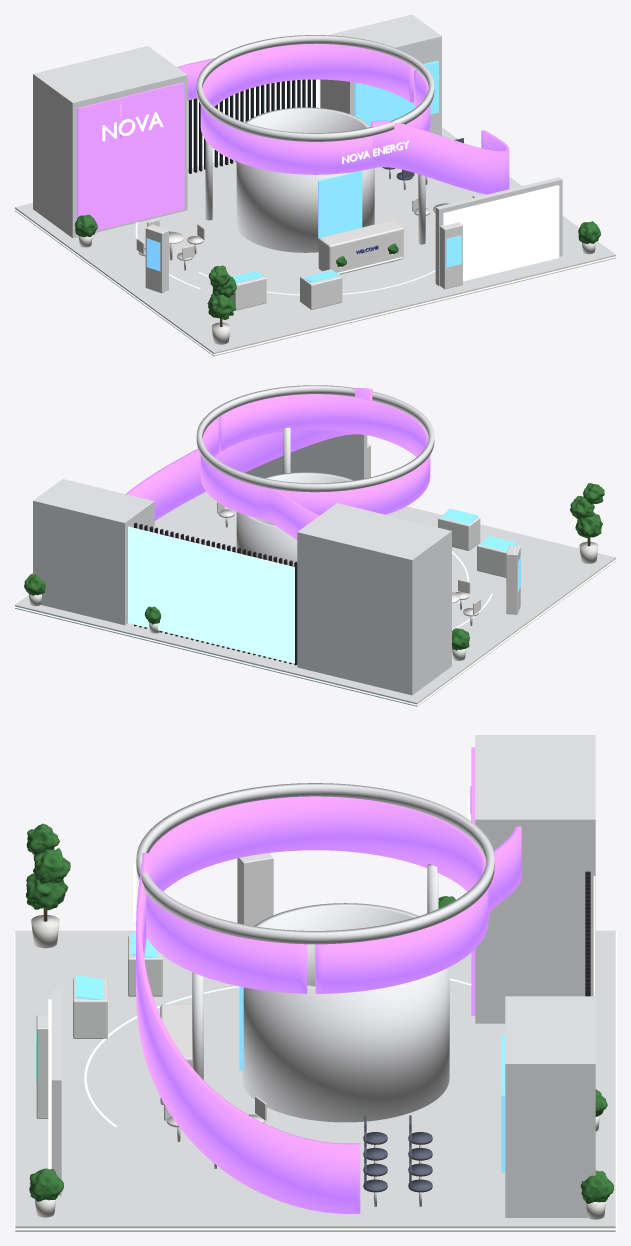
Rendered from nova_tech_pavilion.glb.
3 renders of one model, top to bottom at view 1: azimuth 30°, elevation 25°; view 2: azimuth 150°, elevation 25°; view 3: azimuth 270°, elevation 25°, orthographic. The views are drawn at different scales.
Parts seen in each view (by area): view 1: Platform, HeroRing, StoreBlockLED, StoreBlock, CoreDrum, BacklitWall, RibbonSweepRight, RingCap, StageBlock, Reception_body, CoreScreen, StageLED (+14 smaller); view 2: StoreBlock, Platform, BackSlats_backlight, HeroRing, StageBlock, RibbonSweepRight, RingCap, BacklitWall_frame, CoreDrum, RibbonSweepBack, Touch-2.4_base, Totem-6.2_body (+4 smaller); view 3: Platform, HeroRing, CoreDrum, StoreBlock, StageBlock, RibbonSweepRight, RingCap, Totem-6.2_body, BacklitWall_frame, RibbonSweepBack, EdgeR, Touch-2.4_base (+13 smaller).
Boxes of the visible parts, left/top/right/bottom form: Platform: left=15, top=127, right=615, bottom=356; HeroRing: left=200, top=43, right=430, bottom=174; StoreBlockLED: left=77, top=82, right=184, bottom=230; StoreBlock: left=33, top=46, right=187, bottom=238; CoreDrum: left=236, top=107, right=374, bottom=252; BacklitWall: left=443, top=185, right=559, bottom=281; RibbonSweepRight: left=371, top=120, right=509, bottom=194; RingCap: left=196, top=35, right=434, bottom=141; StageBlock: left=320, top=14, right=441, bottom=135; Reception_body: left=318, top=220, right=403, bottom=274; CoreScreen: left=318, top=170, right=362, bottom=238; StageLED: left=354, top=60, right=438, bottom=126; StoreBlock: left=297, top=503, right=451, bottom=695; Platform: left=15, top=491, right=615, bottom=706; BackSlats_backlight: left=128, top=526, right=294, bottom=663; HeroRing: left=200, top=394, right=430, bottom=519; StageBlock: left=33, top=479, right=154, bottom=625; RibbonSweepRight: left=125, top=388, right=372, bottom=520; RingCap: left=196, top=385, right=434, bottom=492; BacklitWall_frame: left=245, top=434, right=367, bottom=480; CoreDrum: left=236, top=472, right=353, bottom=566; RibbonSweepBack: left=261, top=487, right=319, bottom=539; Touch-2.4_base: left=438, top=514, right=480, bottom=550; Totem-6.2_body: left=506, top=545, right=520, bottom=614; Platform: left=15, top=930, right=615, bottom=1231; HeroRing: left=146, top=796, right=488, bottom=993; CoreDrum: left=241, top=903, right=449, bottom=1122; StoreBlock: left=475, top=735, right=595, bottom=1023; StageBlock: left=505, top=996, right=595, bottom=1217; RibbonSweepRight: left=136, top=853, right=360, bottom=1213; RingCap: left=136, top=783, right=494, bottom=944; Totem-6.2_body: left=237, top=853, right=273, bottom=925; BacklitWall_frame: left=51, top=989, right=61, bottom=1195; RibbonSweepBack: left=470, top=786, right=521, bottom=914; EdgeR: left=15, top=1228, right=615, bottom=1230; Touch-2.4_base: left=73, top=978, right=107, bottom=1038.
Size of the model in its own units: 14.06 by 5.13 by 12.06.
